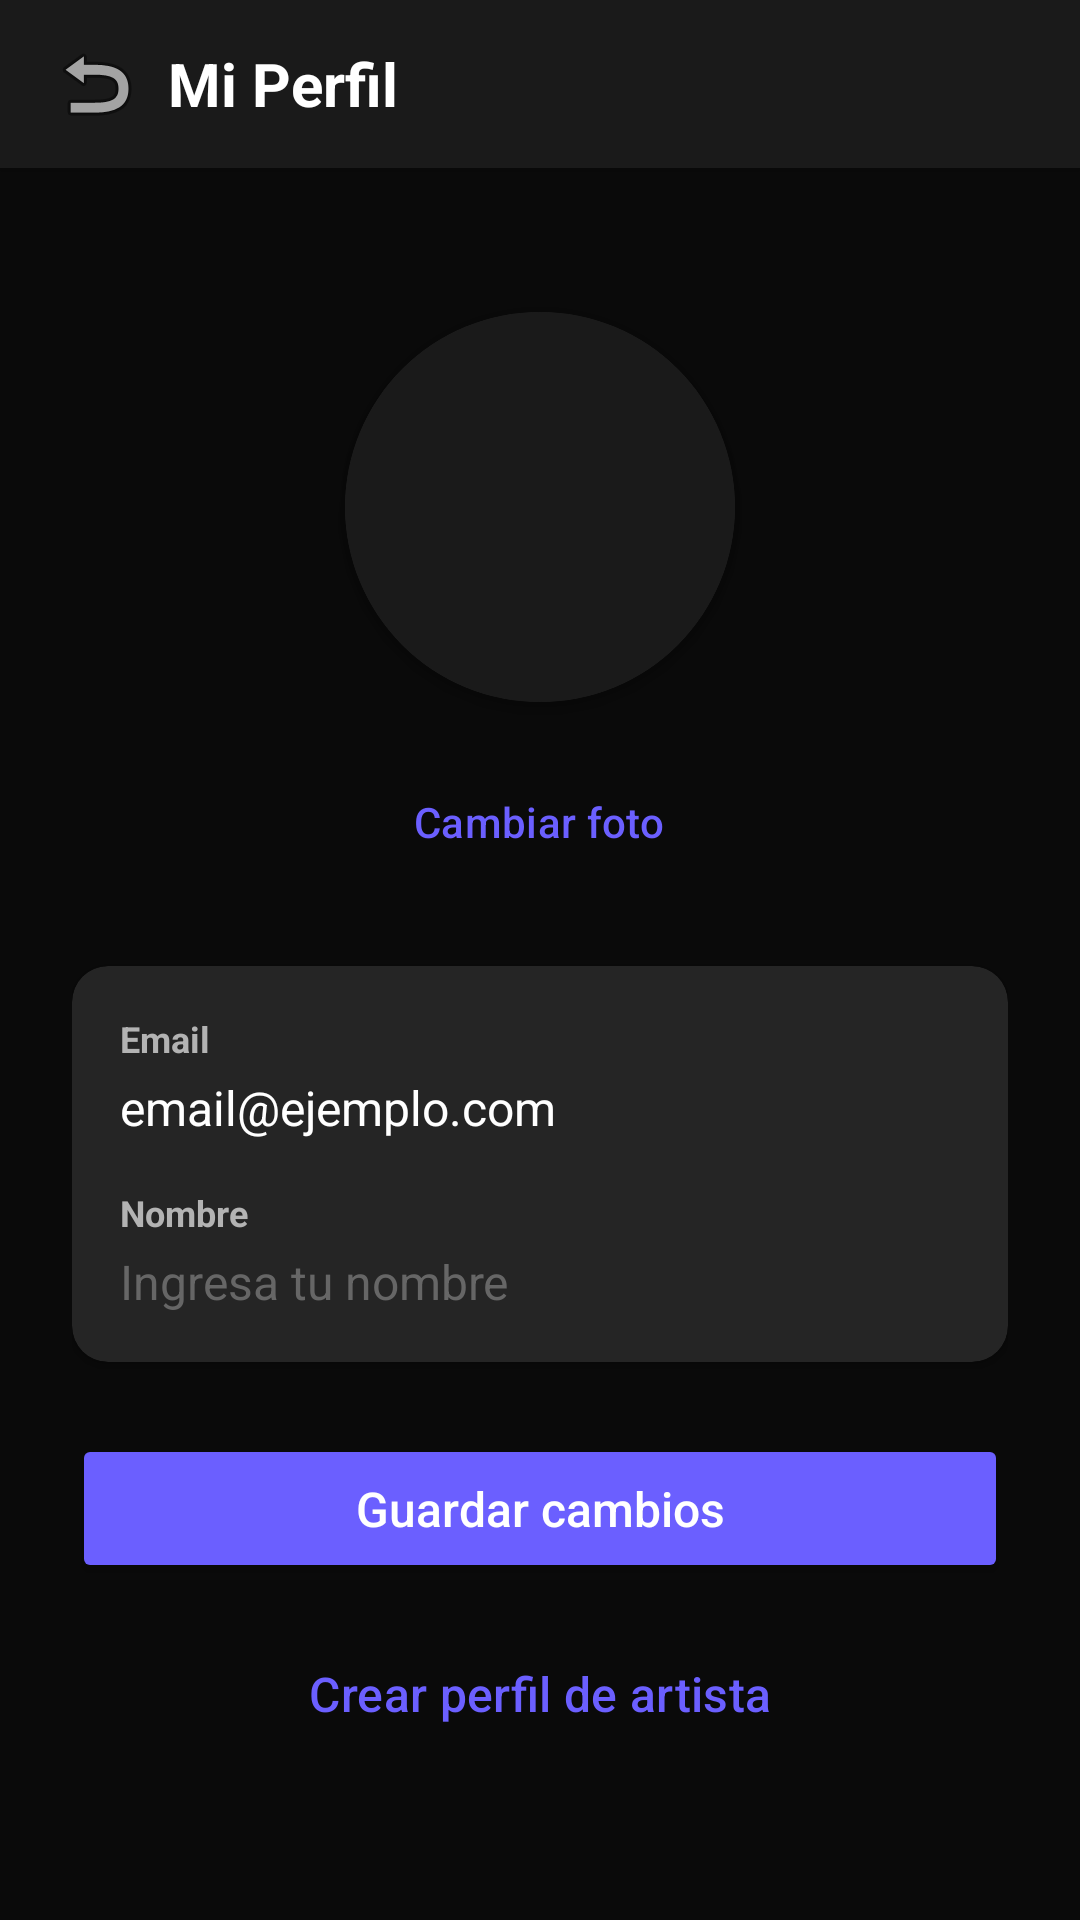

Screen size 1080 × 1920. Icon name, then its center in pixels as (x=x, y=y):
Volver: (x=97, y=84)
